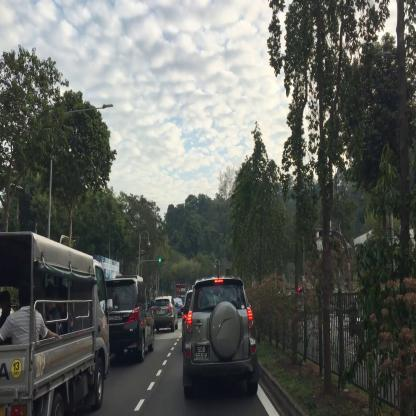green_traffic_light: (158, 258, 164, 262)
